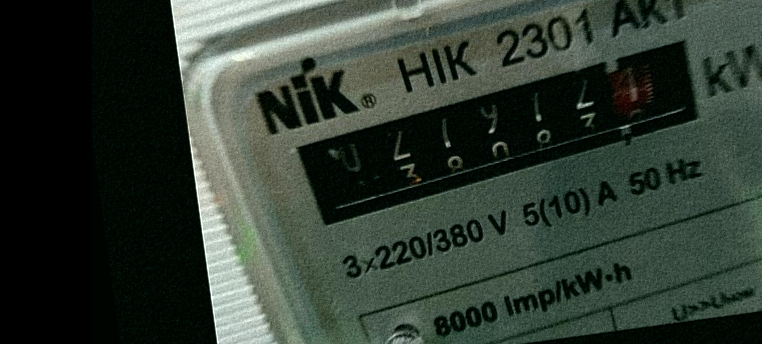0: (334, 136, 367, 175)
1: (620, 60, 647, 106)
2: (382, 120, 416, 162), (567, 71, 599, 111)
7: (521, 82, 552, 126), (431, 111, 459, 151)
9: (476, 97, 507, 135)
screen: (273, 25, 741, 239)
